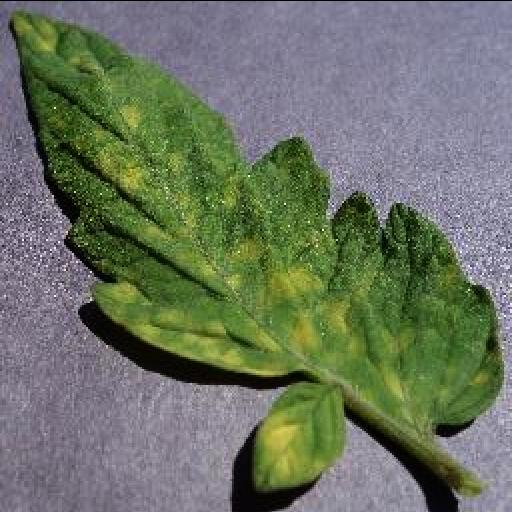disease_tomato: (7, 13, 505, 486)
